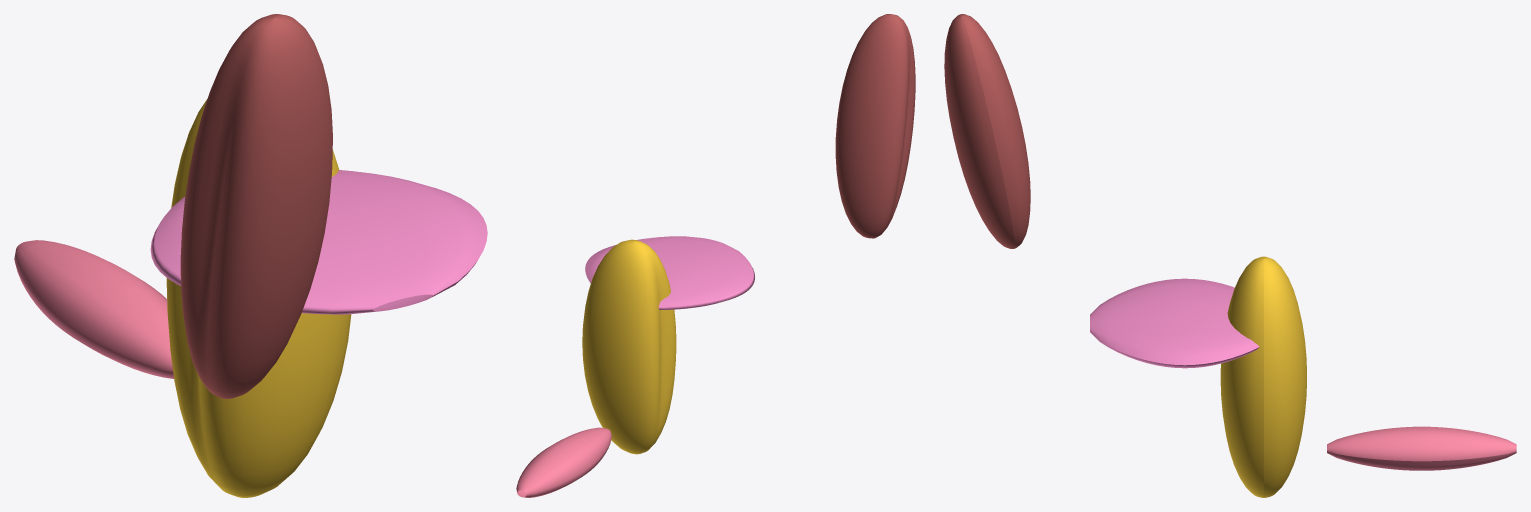
Rendered from urogenital.glb.
3 views of the same model, side by side, from view 1: azimuth 30°, elevation 25°; view 2: azimuth 150°, elevation 25°; view 3: azimuth 270°, elevation 25° (orthographic). The views are drawn at different scales.
Visible parts, largest first — view 1: Mesh_Feline_Ren, Mesh_Feline_Uterus, Mesh_Feline_VesicaUrinaria, Mesh_Feline_Penis; view 2: Mesh_Feline_VesicaUrinaria, Mesh_Feline_Ren, Mesh_Feline_Uterus, Mesh_Feline_Penis; view 3: Mesh_Feline_VesicaUrinaria, Mesh_Feline_Ren, Mesh_Feline_Uterus, Mesh_Feline_Penis.
Boxes of the visible parts, left/top/right/bottom form: Mesh_Feline_Ren: left=180, top=14, right=332, bottom=398; Mesh_Feline_Uterus: left=150, top=170, right=487, bottom=314; Mesh_Feline_VesicaUrinaria: left=166, top=99, right=351, bottom=497; Mesh_Feline_Penis: left=14, top=240, right=173, bottom=378; Mesh_Feline_VesicaUrinaria: left=582, top=239, right=676, bottom=454; Mesh_Feline_Ren: left=835, top=14, right=915, bottom=238; Mesh_Feline_Uterus: left=585, top=236, right=754, bottom=309; Mesh_Feline_Penis: left=516, top=427, right=611, bottom=497; Mesh_Feline_VesicaUrinaria: left=1220, top=256, right=1306, bottom=497; Mesh_Feline_Ren: left=944, top=14, right=1030, bottom=248; Mesh_Feline_Uterus: left=1090, top=278, right=1259, bottom=368; Mesh_Feline_Penis: left=1327, top=426, right=1516, bottom=470.
Bounding box in the file's own units: 0.1478 × 0.2307 × 0.2898.
